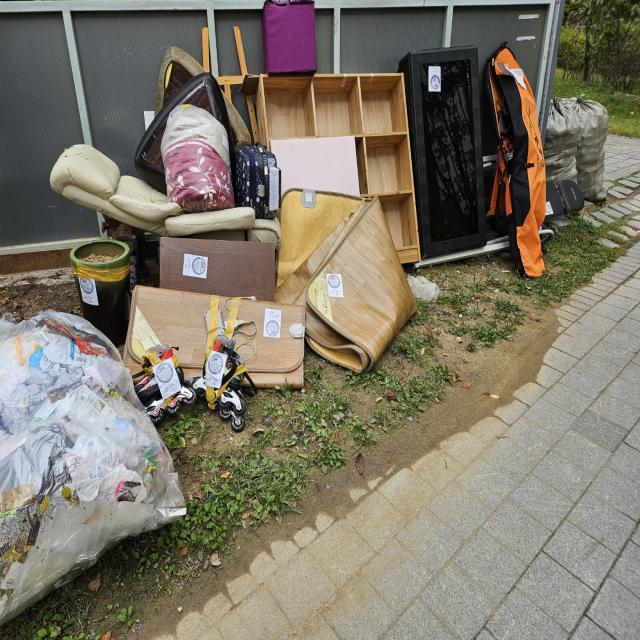General Waste: (0, 309, 121, 555)
Large Waste Items: (259, 73, 420, 263), (285, 191, 415, 367), (128, 281, 306, 388), (52, 144, 174, 230), (161, 102, 236, 215), (235, 143, 282, 220), (546, 178, 584, 228)
